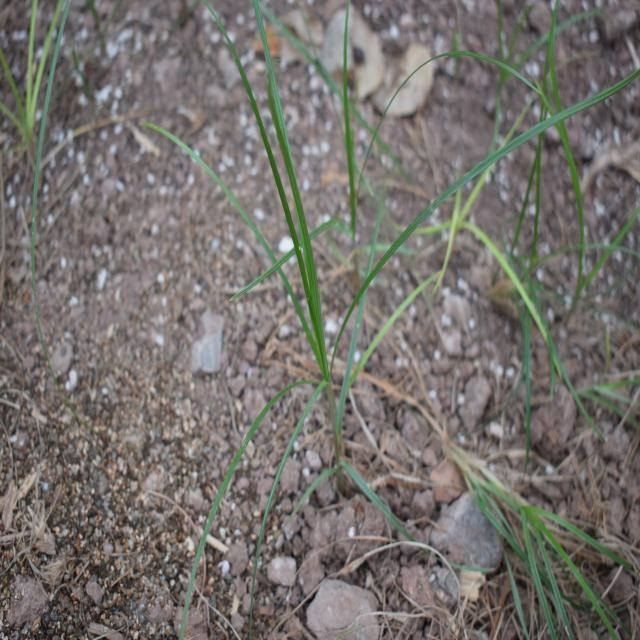sedge: (144, 22, 492, 572)
